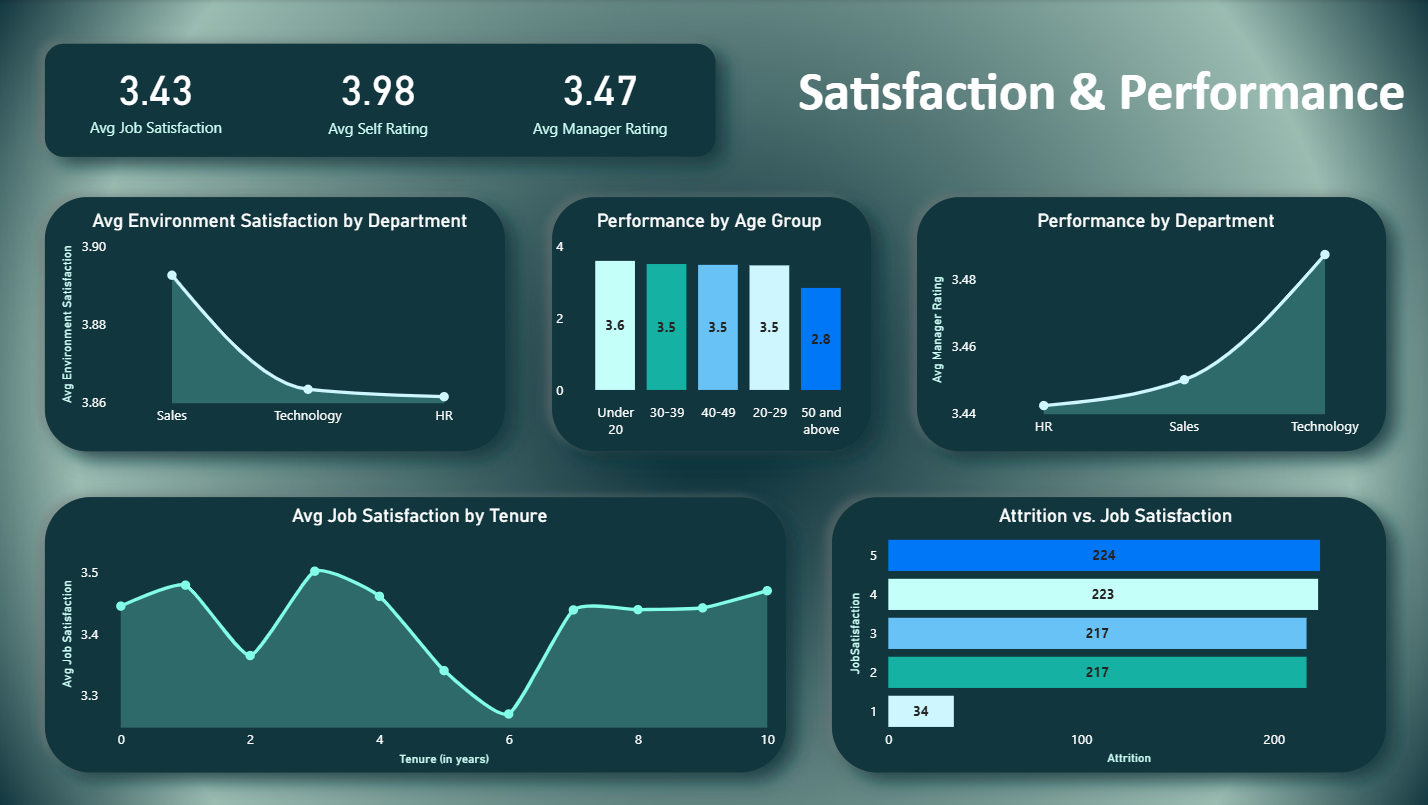

This screenshot's page, from the dashboard's own definition file:
{"tool":"powerbi","page":{"name":"Performance","canvas":[1280,720],"ordinal":2},"visuals":[{"type":"card","fields":{"Values":["Performance rating.Avg Job Satisfaction"]},"box":[40.6,37.1,200.5,99.6],"z":6000},{"type":"card","fields":{"Values":["Performance rating.Avg Self Rating"]},"box":[238.6,36.7,200,100.5],"z":7000},{"type":"card","fields":{"Values":["Performance rating.Avg Manager Rating"]},"box":[437.8,36.9,199.2,100.8],"z":8000},{"type":"lineChart","title":"Avg Environment Satisfaction by  Department","fields":{"Category":["Employee.Department"],"Y":["Performance rating.Avg Environment Satisfaction"]},"box":[50,187.5,401.2,212.5],"z":9000},{"type":"barChart","title":"Attrition vs. Job Satisfaction","fields":{"Category":["Performance rating.JobSatisfaction","Performance rating.ReviewDate.Variation.Date Hierarchy.Year"],"Y":["Employee.Total Attrition"],"Series":["Performance rating.JobSatisfaction"]},"box":[754.6,451,485.2,238.1],"z":10000},{"type":"lineChart","title":"Avg Job Satisfaction by Tenure","fields":{"Y":["Performance rating.Avg Job Satisfaction"],"Category":["Employee.YearsAtCompany"]},"box":[50,451.2,651.2,238.8],"z":11000},{"type":"columnChart","title":"Performance by Age Group","fields":{"Category":["Employee.Age Group"],"Y":["Performance rating.Avg Manager Rating"],"Series":["Employee.Age Group"]},"box":[492.7,187.5,284.3,212.8],"z":12000},{"type":"lineChart","title":"Performance by Department","fields":{"Category":["Employee.Department"],"Y":["Performance rating.Avg Manager Rating"]},"box":[827.5,187.5,412.5,212.5],"z":13000},{"type":"textbox","box":[690,47.5,590,156.2],"z":14000}]}

Visuals, with their boxes in screenshot pixels (x1, y1, x2, y2), scaled from the page's 1280x720 canvas onto the 1428x805 screenshot:
card - Performance rating.Avg Job Satisfaction: <box>45,41,269,153</box>
card - Performance rating.Avg Self Rating: <box>266,41,489,153</box>
card - Performance rating.Avg Manager Rating: <box>488,41,711,154</box>
"Avg Environment Satisfaction by  Department" lineChart: <box>56,210,503,447</box>
"Attrition vs. Job Satisfaction" barChart: <box>842,504,1383,770</box>
"Avg Job Satisfaction by Tenure" lineChart: <box>56,504,782,771</box>
"Performance by Age Group" columnChart: <box>550,210,867,448</box>
"Performance by Department" lineChart: <box>923,210,1383,447</box>
textbox: <box>770,53,1427,228</box>
